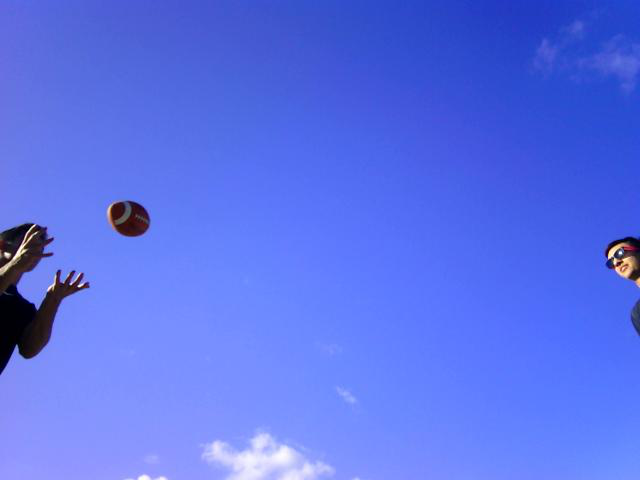football: (104, 198, 155, 243)
